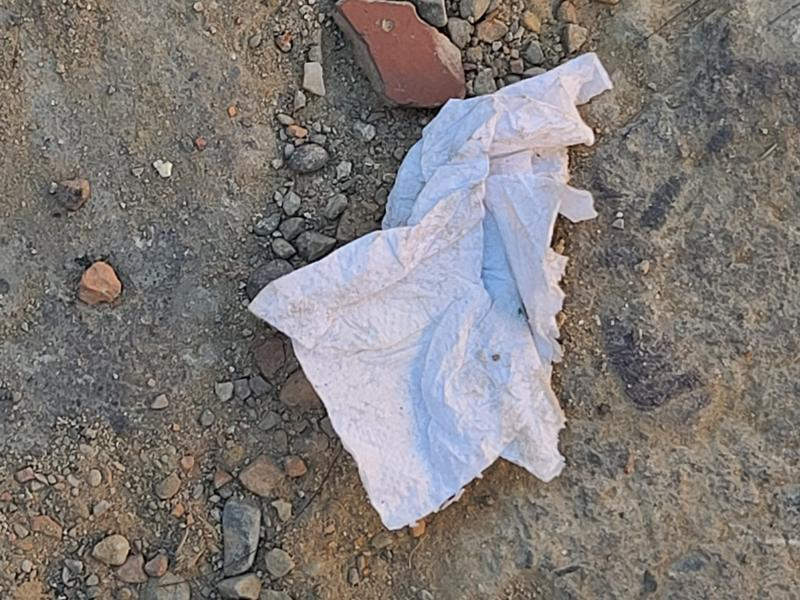papel: (247, 53, 612, 533)
